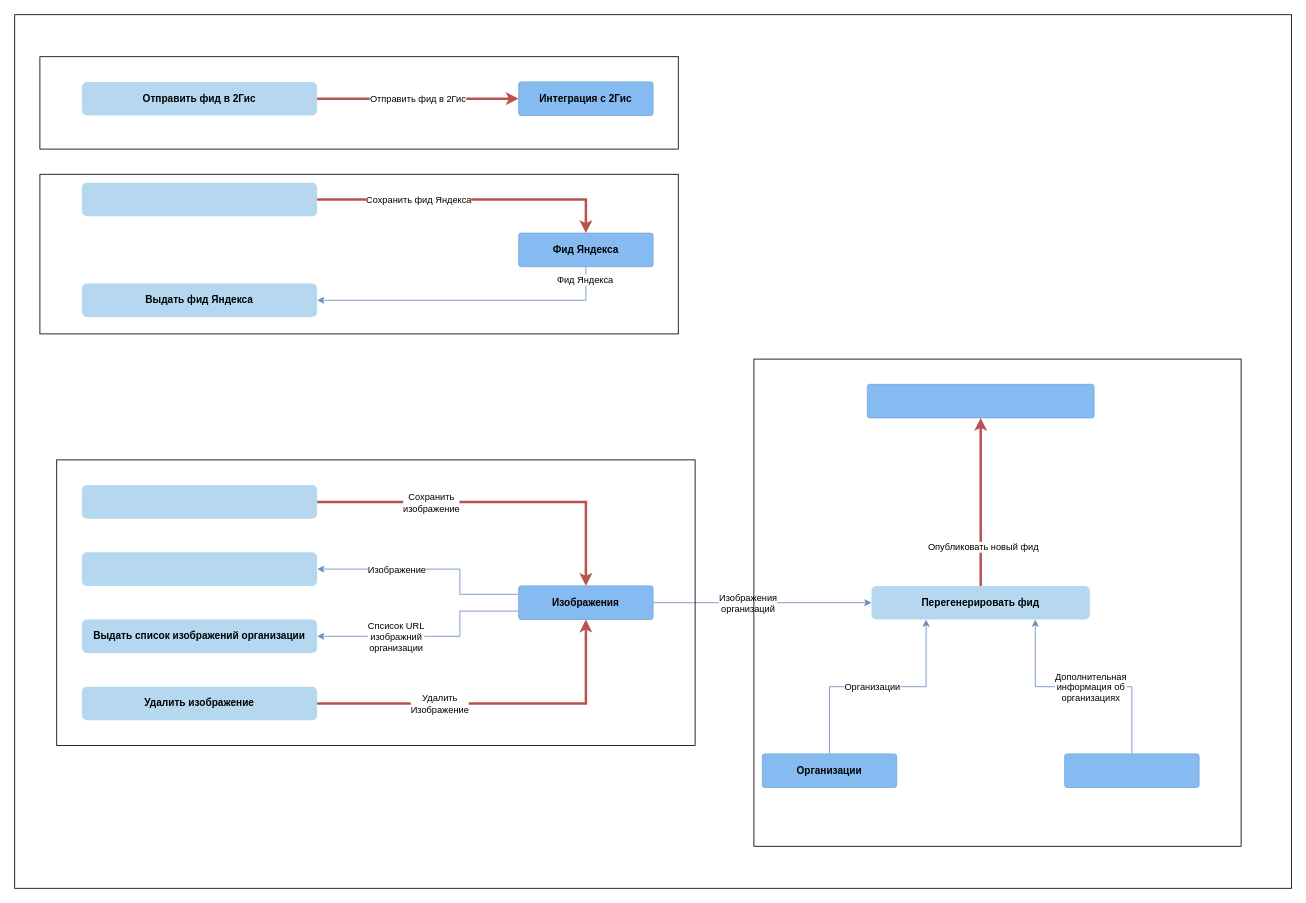
The diagram is 1306 pixels wide and 903 high, and some of its shapes have lost their labels. The shapes that lost their labels are listed below. From the top down, each one's centre as x and y in pixels, then its label:
pixel 199 199: Обновить фид Яндекса
pixel 980 400: Тема "Сгенерирован новый фид"
pixel 199 501: Загрузить изображение
pixel 199 568: Скачать изображение
pixel 1131 770: Дополнительная информация
